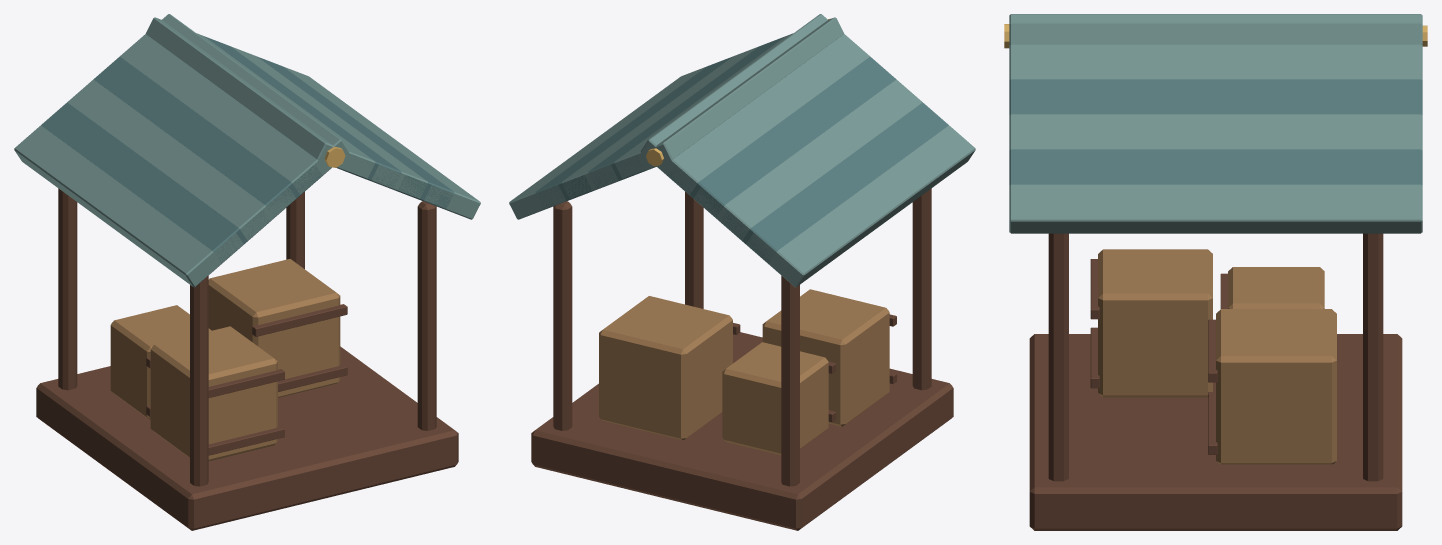
Rendered from storage.glb.
The picture shows the model from 3 angles, left to right: view 1: azimuth 30°, elevation 25°; view 2: azimuth 150°, elevation 25°; view 3: azimuth 270°, elevation 25°; orthographic projection. The views are drawn at different scales.
Parts seen in each view (by area): view 1: Geometry; view 2: Geometry; view 3: Geometry.
Part boxes in pixels (x1=…): Geometry: x1=14, y1=14, x2=480, y2=530; Geometry: x1=509, y1=14, x2=975, y2=530; Geometry: x1=1004, y1=14, x2=1427, y2=530.
Size of the model in its own units: 2.02 by 2.39 by 2.1.
